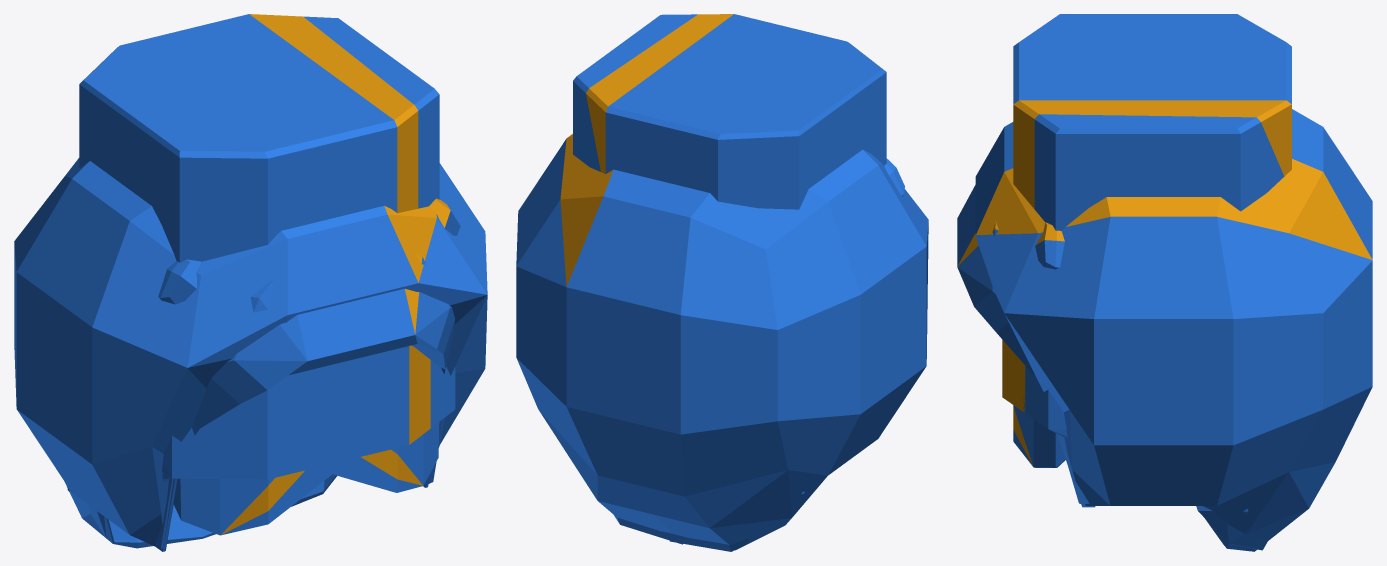
File: MainHair.fbx
3 views of the same model, side by side, from view 1: azimuth 30°, elevation 25°; view 2: azimuth 150°, elevation 25°; view 3: azimuth 270°, elevation 25° (orthographic). The views are drawn at different scales.
Parts seen in each view (by area): view 1: Hair_BlackPowerBig, Hair_TuftBig, Hair_Bow, Hair_TuftCool, Hair_BowBig, Hair_EmoToRight, Hair_EmoToLeft, Hair_TuftCoolToRight, Hair_Normal; view 2: Hair_BlackPowerBig, Hair_TuftBig, Hair_Normal; view 3: Hair_BlackPowerBig, Hair_TuftBig, Hair_TuftCool, Hair_BowBig, Hair_Bow, Hair_EmoToLeft, Hair_TuftCoolToLeft, Hair_Normal.
Part boxes in pixels (x1,y1,x2,y2): Hair_BlackPowerBig: [14, 158, 487, 548]; Hair_TuftBig: [79, 14, 439, 262]; Hair_Bow: [109, 345, 455, 551]; Hair_TuftCool: [192, 254, 454, 486]; Hair_BowBig: [162, 348, 455, 544]; Hair_EmoToRight: [107, 463, 337, 550]; Hair_EmoToLeft: [106, 422, 439, 548]; Hair_TuftCoolToRight: [107, 259, 425, 548]; Hair_Normal: [67, 419, 443, 548]; Hair_BlackPowerBig: [516, 134, 928, 550]; Hair_TuftBig: [573, 14, 886, 209]; Hair_Normal: [614, 491, 804, 551]; Hair_BlackPowerBig: [975, 109, 1372, 551]; Hair_TuftBig: [1013, 14, 1291, 230]; Hair_TuftCool: [957, 185, 1037, 381]; Hair_BowBig: [1002, 342, 1251, 551]; Hair_Bow: [1002, 340, 1095, 507]; Hair_EmoToLeft: [1013, 405, 1065, 467]; Hair_TuftCoolToLeft: [1035, 222, 1064, 269]; Hair_Normal: [1059, 435, 1267, 550].
Bounding box in the file's own units: 130 × 156 × 129.
